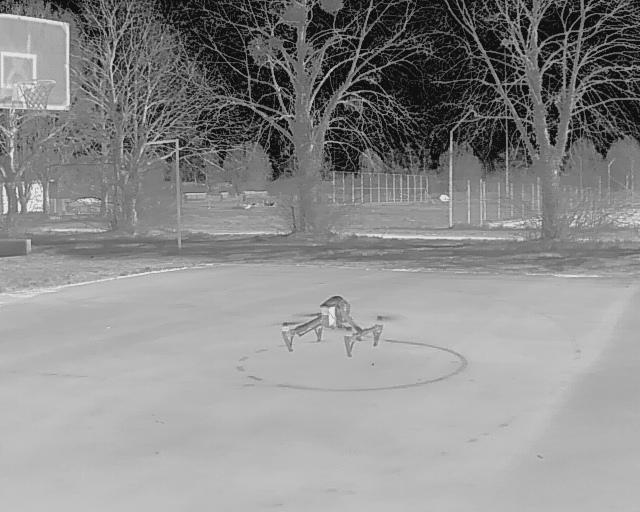drone: (277, 285, 405, 363)
